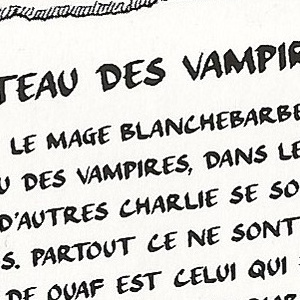Charlie: (119, 91, 181, 209)
